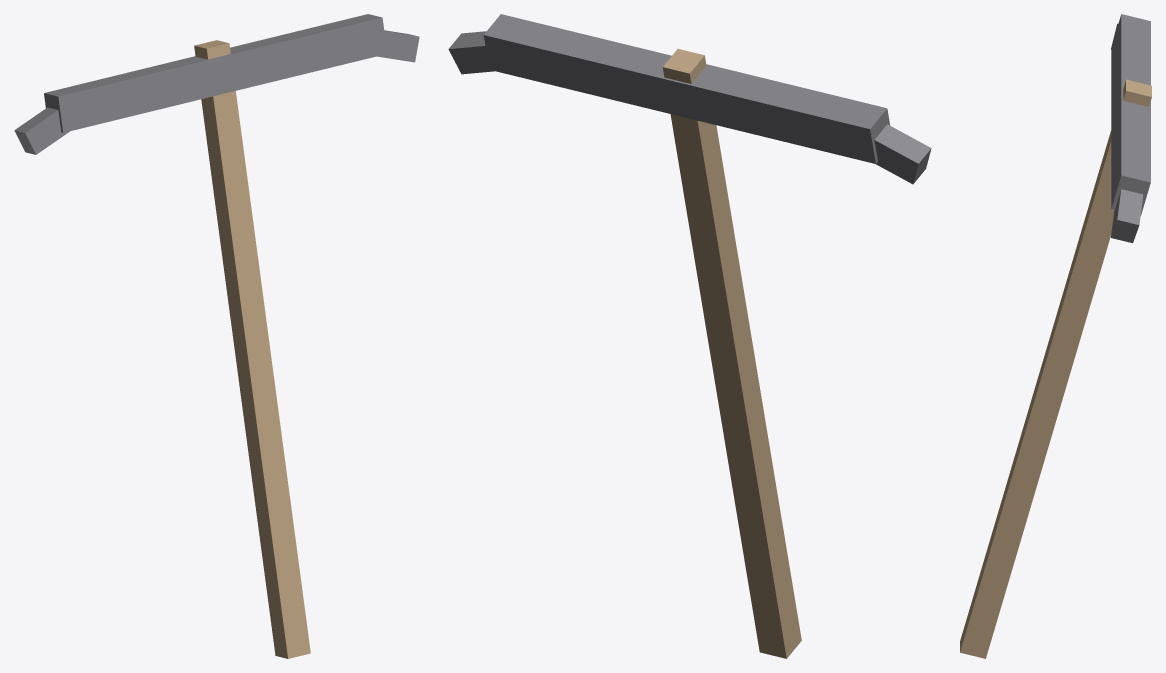
File: prop-pickaxe-lean.fbx
The picture shows the model from 3 angles, left to right: view 1: azimuth 30°, elevation 25°; view 2: azimuth 150°, elevation 25°; view 3: azimuth 270°, elevation 25°; orthographic projection. The views are drawn at different scales.
Parts seen in each view (by area): view 1: prop-pickaxe-lean; view 2: prop-pickaxe-lean; view 3: prop-pickaxe-lean.
Boxes of the visible parts, box(x1,y1,x2,y2) form: prop-pickaxe-lean: box(14, 14, 419, 658); prop-pickaxe-lean: box(448, 14, 931, 658); prop-pickaxe-lean: box(960, 14, 1151, 658).
Size of the model in its own units: 60.84 by 82.04 by 25.12.
